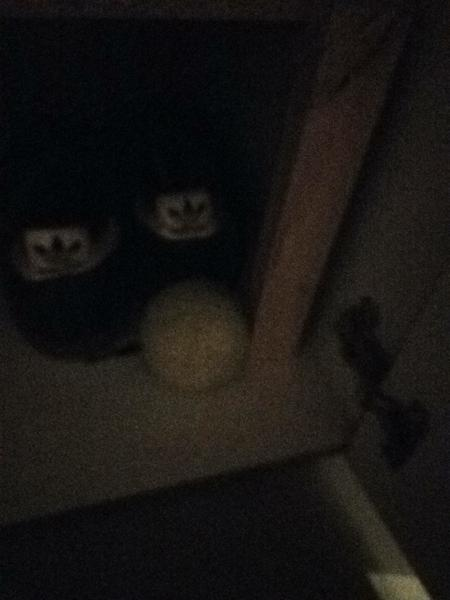Tennisball: (137, 278, 249, 397)
